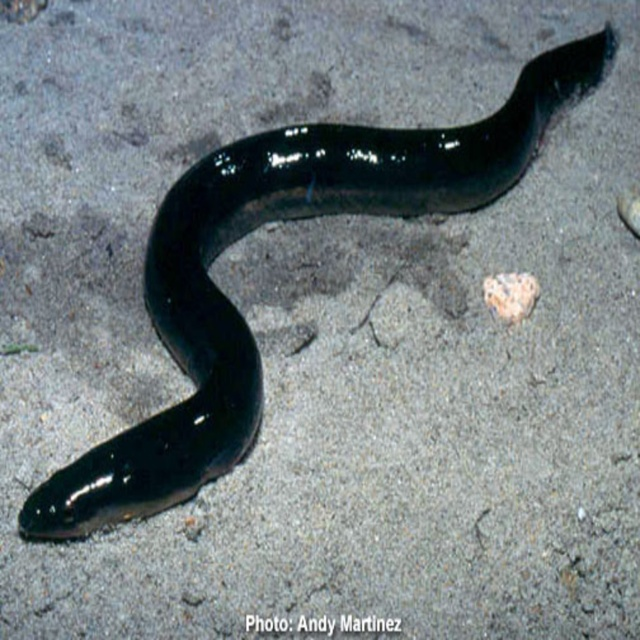Fish: (614, 181, 640, 237)
